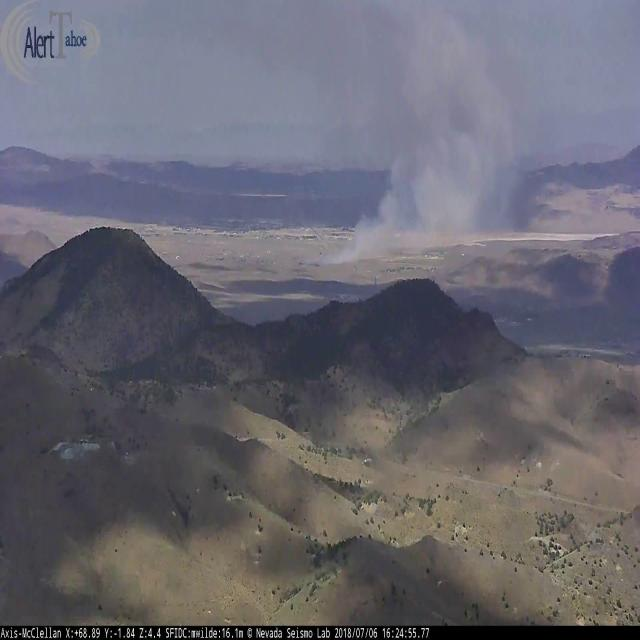smoke: (298, 3, 540, 264)
